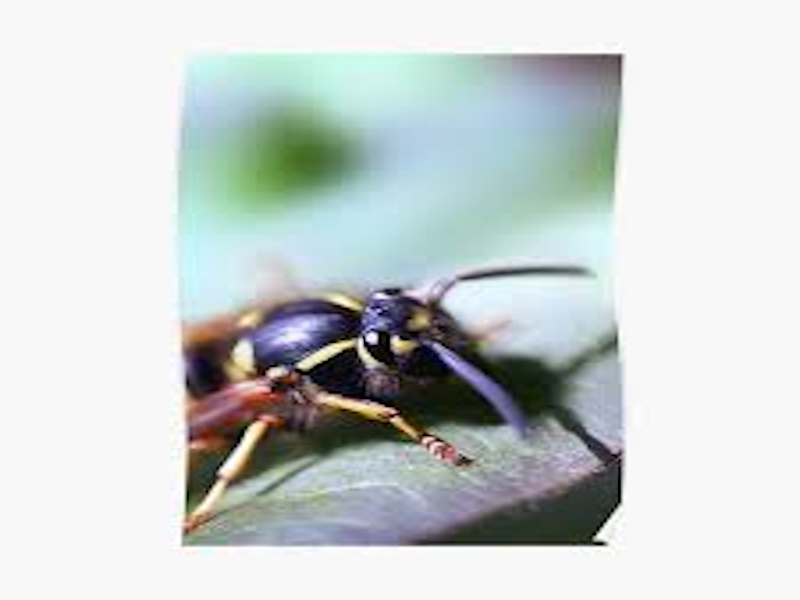chax: (138, 232, 582, 526)
